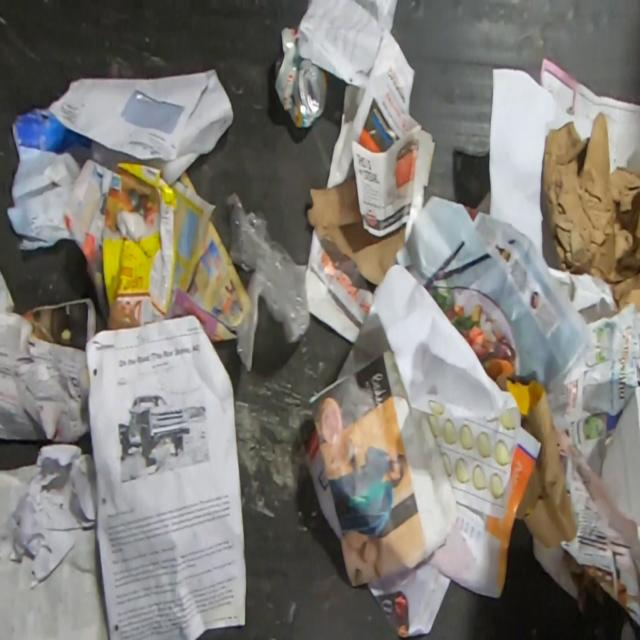cardboard: (100, 159, 179, 329), (5, 104, 93, 252), (306, 174, 406, 287)
metal: (273, 25, 329, 129)
soft_plastic: (222, 188, 312, 372)
